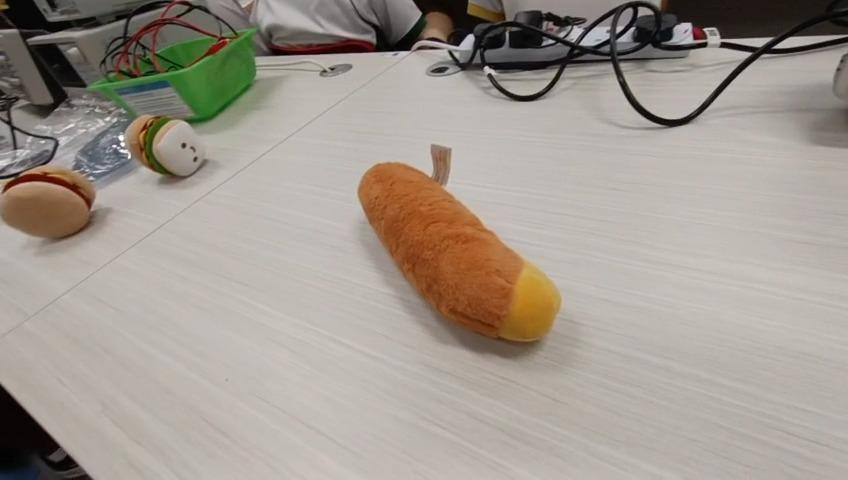hotdog: (356, 156, 562, 343)
